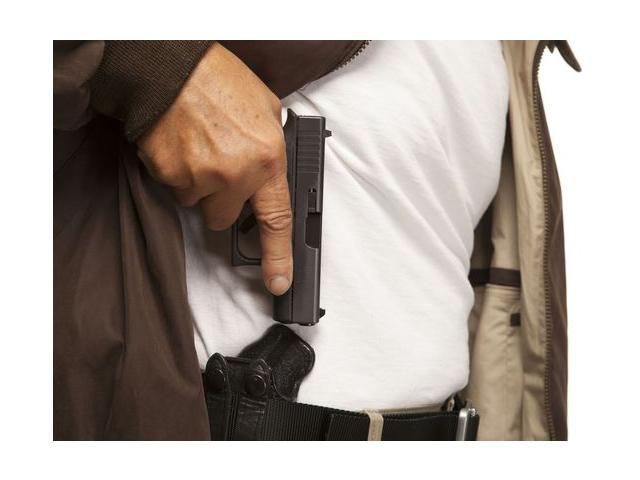pistol: (196, 108, 329, 329)
